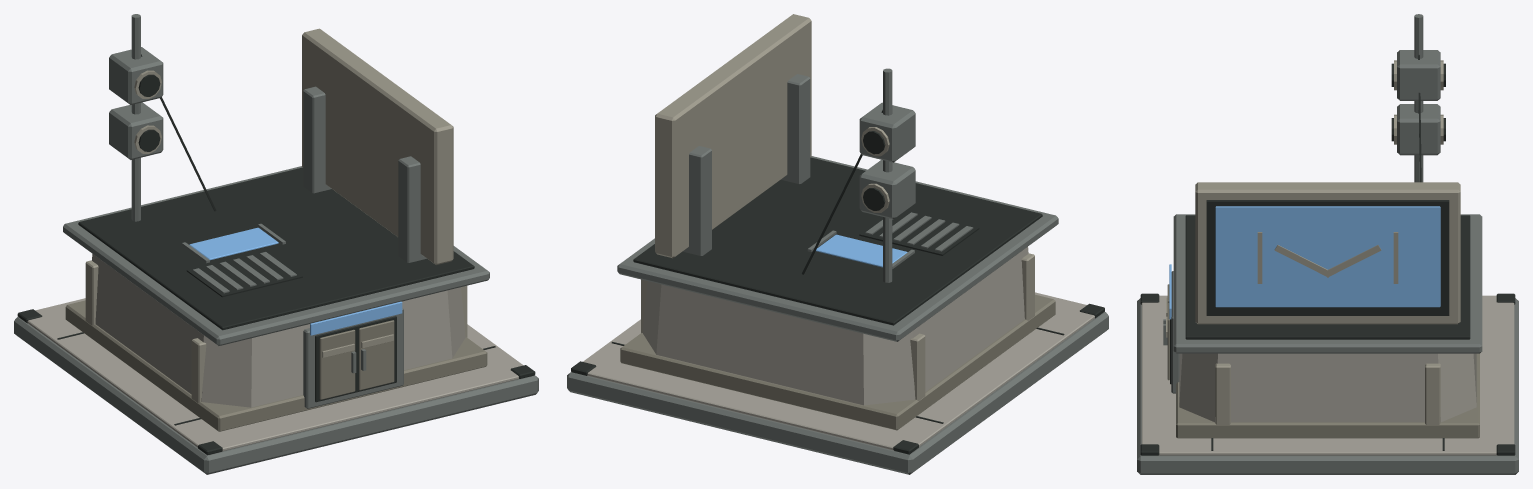
The model's file is propaganda_center.glb.
3 renders of one model, left to right at view 1: azimuth 30°, elevation 25°; view 2: azimuth 150°, elevation 25°; view 3: azimuth 270°, elevation 25°, orthographic. The views are drawn at different scales.
Parts seen in each view (by area): view 1: propaganda_center; view 2: propaganda_center; view 3: propaganda_center.
Boxes of the visible parts, x1,y1,x2,y2 form: propaganda_center: (14,14,538,474); propaganda_center: (567,14,1108,474); propaganda_center: (1137,14,1518,474).
Size of the model in its own units: 3.7 by 3.58 by 3.7.
